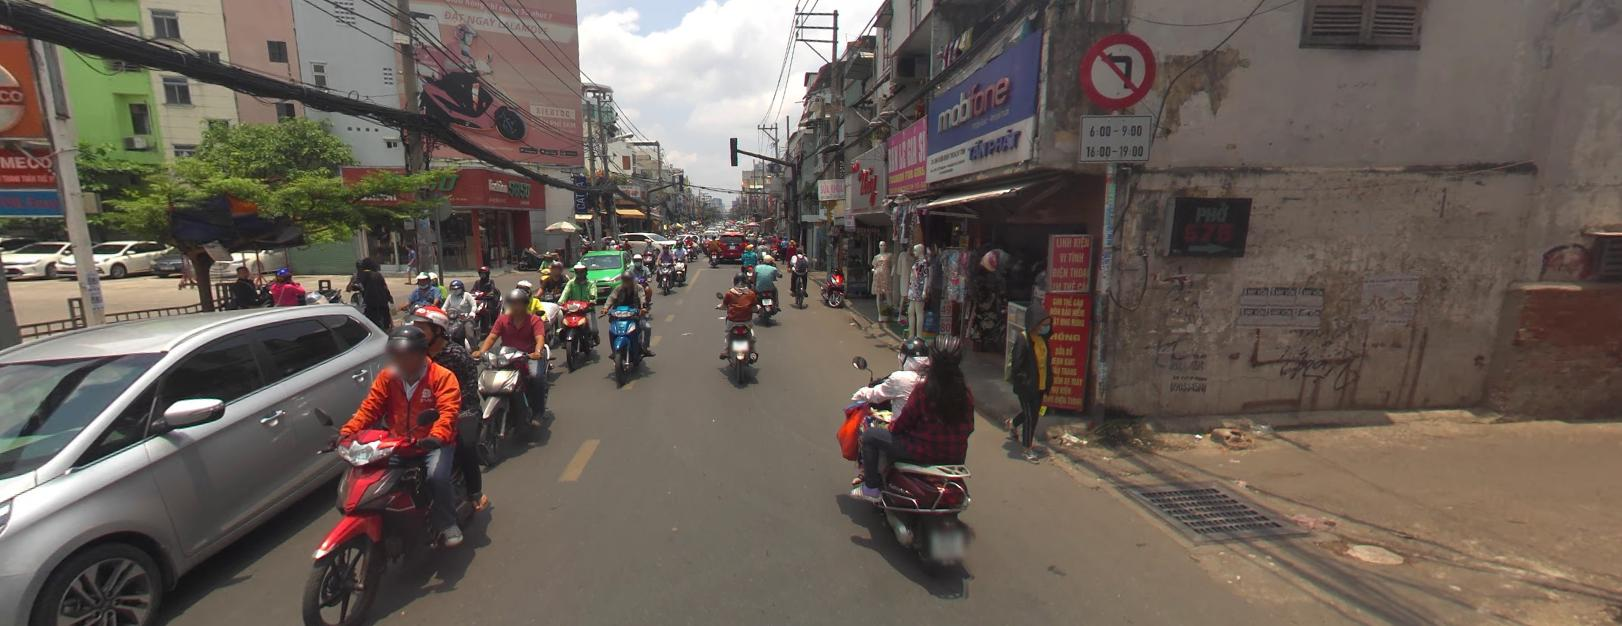Cam re: (1077, 33, 1157, 109)
